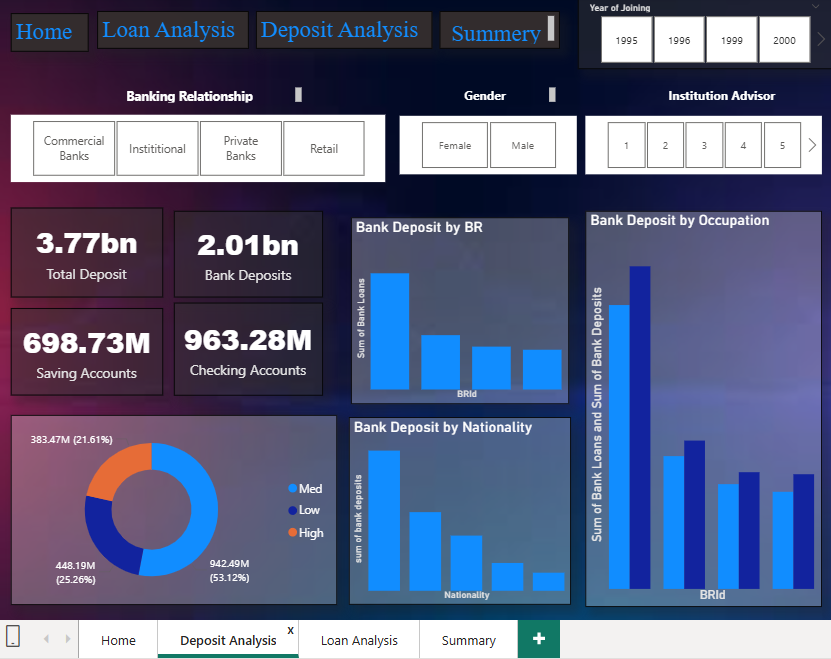

The page's visual inventory and layout, read from the dashboard file:
{"tool":"powerbi","page":{"name":"Deposit Analysis","canvas":[960,720],"ordinal":1},"visuals":[{"type":"textbox","box":[12.5,18.7,89.8,44.9],"z":0},{"type":"textbox","box":[112.2,16.2,174.6,43.6],"z":1000},{"type":"textbox","box":[295.6,16.2,203.3,43.6],"z":2000},{"type":"textbox","box":[507.6,16.2,138.4,43.6],"z":3000},{"type":"slicer","fields":{"Values":["Banking_case_customer.Year of Joining"]},"box":[666.9,0,293.1,83.6],"z":4000},{"type":"actionButton","box":[12.5,78.6,89.8,43.6],"z":5000},{"type":"actionButton","box":[113.5,18.7,174.6,43.6],"z":6000},{"type":"actionButton","box":[295.6,16.2,203.3,43.6],"z":7000},{"type":"actionButton","box":[508.8,18.7,137.2,44.9],"z":8000},{"type":"card","fields":{"Values":["Sum(Banking_case_customer.Bank Deposits)"]},"box":[200.8,246.9,172.1,99.8],"z":9000},{"type":"donutChart","fields":{"Category":["Banking_case_customer.Income Band"],"Y":["Sum(Banking_case_customer.Bank Loans)"]},"box":[12.5,482.6,376.6,219.5],"z":10000},{"type":"clusteredColumnChart","title":"Bank Deposit by BR","fields":{"Category":["Banking_case_customer.BRId"],"Y":["Sum(Banking_case_customer.Bank Loans)"]},"box":[405.3,254.8,251.9,215.3],"z":11000},{"type":"clusteredColumnChart","title":"Bank Deposit by Nationality","fields":{"Category":["Banking_case_customer.Nationality"],"Y":["Sum(Banking_case_customer.Bank Loans)"]},"box":[402.8,485.3,256.9,217],"z":12000},{"type":"slicer","fields":{"Values":["Banking_case_customer.BRId"]},"box":[12.5,135.9,432.7,77.3],"z":13000},{"type":"slicer","fields":{"Values":["Banking_case_customer.GenderId"]},"box":[461.4,137.2,204.5,67.3],"z":14000},{"type":"slicer","fields":{"Values":["Banking_case_customer.IAId"]},"box":[675.9,137.2,273.1,67.3],"z":15000},{"type":"textbox","box":[140.9,99.8,212,27.4],"z":16000},{"type":"textbox","box":[531.3,99.8,114.7,27.4],"z":17000},{"type":"textbox","box":[767,99.8,154.6,36.2],"z":18000},{"type":"clusteredColumnChart","title":"Bank Deposit by Occupation","fields":{"Category":["Banking_case_customer.BRId"],"Y":["Sum(Banking_case_customer.Bank Loans)","Sum(Banking_case_customer.Bank Deposits)"]},"box":[675.9,246.9,273.1,457.7],"z":19000},{"type":"card","fields":{"Values":["Banking_case_customer.Total Deposit"]},"box":[12.5,243.2,175.8,103.5],"z":20000},{"type":"card","fields":{"Values":["Sum(Banking_case_customer.Saving Accounts)"]},"box":[12.5,359.2,175.8,101],"z":21000},{"type":"card","fields":{"Values":["Sum(Banking_case_customer.Checking Accounts)"]},"box":[200.8,352.9,172.1,107.2],"z":22000}]}

Visuals, with their boxes on the page's 960x720 design canvas (x1, y1, x2, y2). These are canvas units, not pixel positions in the 831x659 screenshot, which may show the page scaled, cropped or inside an application window:
textbox: x1=12, y1=19, x2=102, y2=64
textbox: x1=112, y1=16, x2=287, y2=60
textbox: x1=296, y1=16, x2=499, y2=60
textbox: x1=508, y1=16, x2=646, y2=60
slicer - Banking_case_customer.Year of Joining: x1=667, y1=0, x2=960, y2=84
actionButton: x1=12, y1=79, x2=102, y2=122
actionButton: x1=114, y1=19, x2=288, y2=62
actionButton: x1=296, y1=16, x2=499, y2=60
actionButton: x1=509, y1=19, x2=646, y2=64
card - Sum(Banking_case_customer.Bank Deposits): x1=201, y1=247, x2=373, y2=347
donutChart - Banking_case_customer.Income Band x Sum(Banking_case_customer.Bank Loans): x1=12, y1=483, x2=389, y2=702
"Bank Deposit by BR" clusteredColumnChart: x1=405, y1=255, x2=657, y2=470
"Bank Deposit by Nationality" clusteredColumnChart: x1=403, y1=485, x2=660, y2=702
slicer - Banking_case_customer.BRId: x1=12, y1=136, x2=445, y2=213
slicer - Banking_case_customer.GenderId: x1=461, y1=137, x2=666, y2=204
slicer - Banking_case_customer.IAId: x1=676, y1=137, x2=949, y2=204
textbox: x1=141, y1=100, x2=353, y2=127
textbox: x1=531, y1=100, x2=646, y2=127
textbox: x1=767, y1=100, x2=922, y2=136
"Bank Deposit by Occupation" clusteredColumnChart: x1=676, y1=247, x2=949, y2=705
card - Banking_case_customer.Total Deposit: x1=12, y1=243, x2=188, y2=347
card - Sum(Banking_case_customer.Saving Accounts): x1=12, y1=359, x2=188, y2=460
card - Sum(Banking_case_customer.Checking Accounts): x1=201, y1=353, x2=373, y2=460
